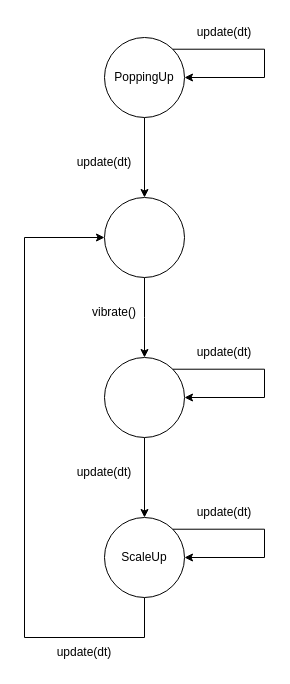
Image size: 290x684. Some labels were removed from this diagram. Each missing label, with the centre of its shape:
PoppedUp: point 144,237
ScaleDown: point 144,397
